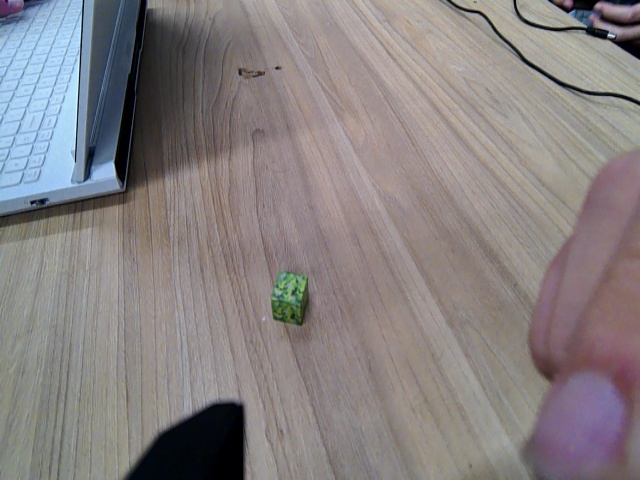grass: (272, 270, 309, 329)
